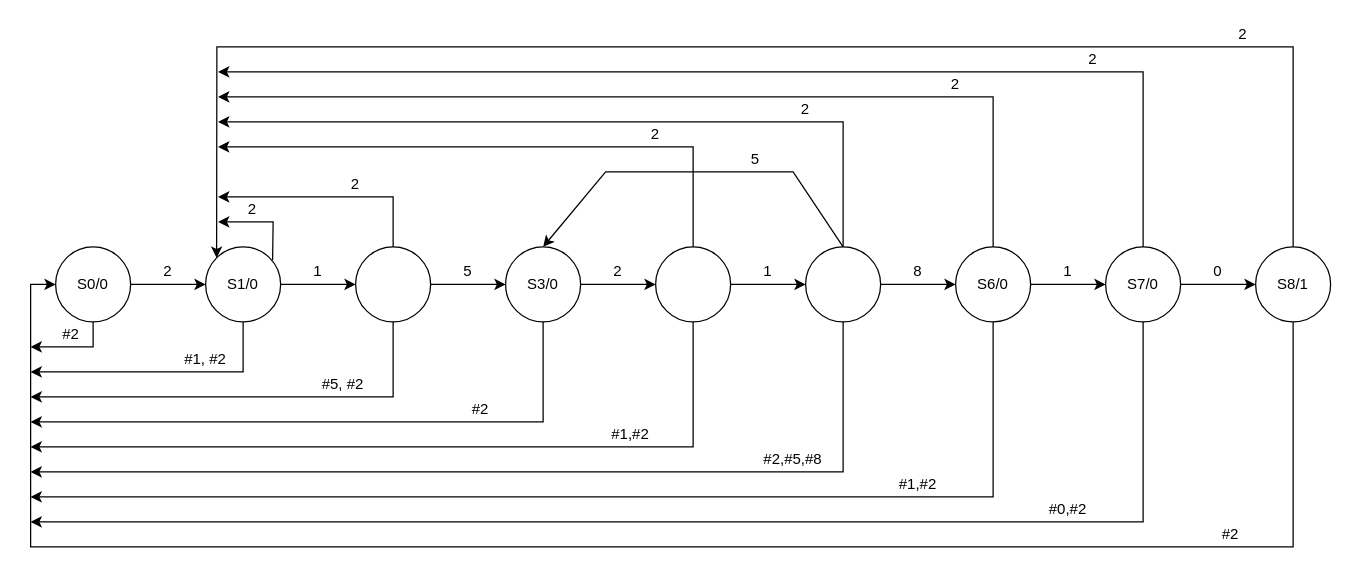
Some shapes in this 1353 by 579 pixel diagram are drawn without their labels. Here are the shapes that lost their labels. From the top down, the box of each, then its label:
(354, 246, 431, 322): S2/0
(654, 246, 731, 322): S4/0
(804, 246, 881, 322): S5/0
